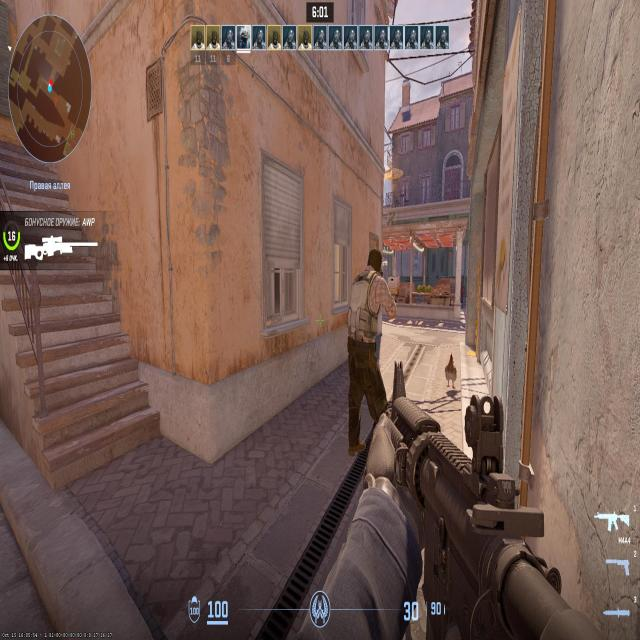T: (352, 254, 386, 439)
T_heat: (370, 257, 381, 277)
